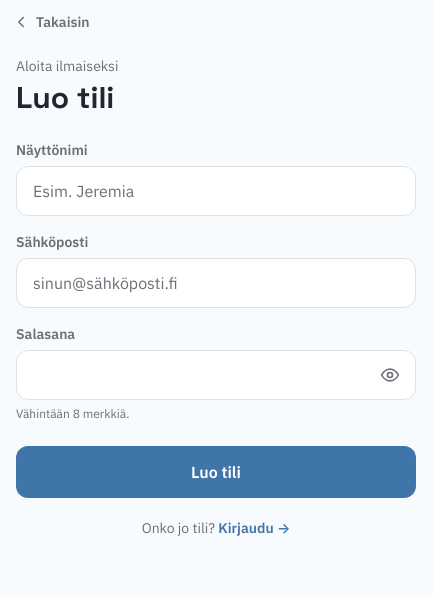
Test case: Register (integration) › shows all three field errors on empty submit
Click the button "Luo tili": point(216, 472) [16, 446, 416, 498]
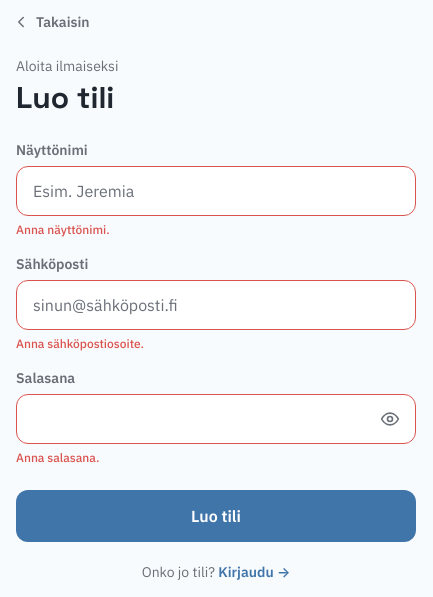
Expected: the text "Anna näyttönimi." is shown, [16, 222, 110, 237]
Expected: the text "Anna sähköpostiosoite." is shown, [16, 336, 144, 351]
Expected: the text "Anna salasana." is shown, [16, 450, 99, 465]
